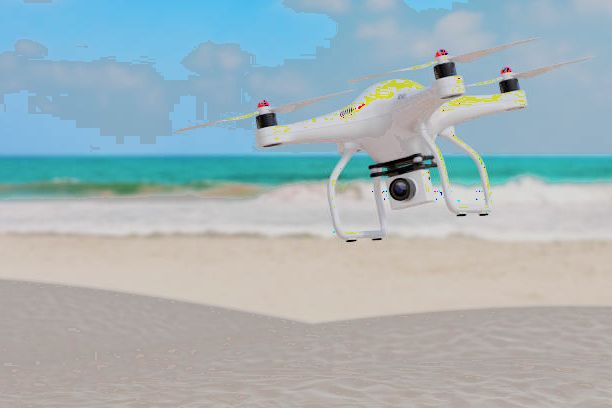Drone: (165, 31, 590, 244)
